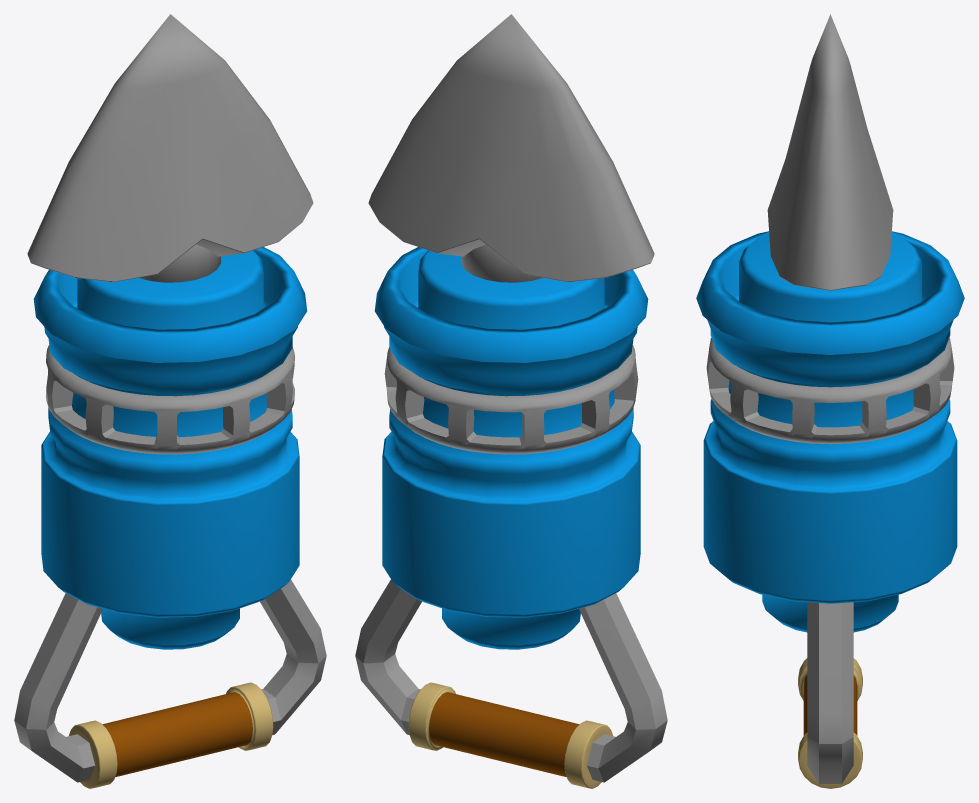
Rendered from GrappleHook_v1.fbx.
3 renders of one model, left to right at view 1: azimuth 30°, elevation 25°; view 2: azimuth 150°, elevation 25°; view 3: azimuth 270°, elevation 25°, orthographic. The views are drawn at different scales.
Visible parts, largest first — view 1: GrappleHook_v1, Hook_v1, Chain_v1; view 2: GrappleHook_v1, Hook_v1, Chain_v1; view 3: GrappleHook_v1, Hook_v1, Chain_v1.
Part boxes in pixels (x1,y1,x2,y2): GrappleHook_v1: [14, 247, 326, 788]; Hook_v1: [27, 14, 313, 282]; Chain_v1: [46, 345, 294, 454]; GrappleHook_v1: [355, 247, 667, 788]; Hook_v1: [368, 14, 654, 282]; Chain_v1: [384, 345, 638, 454]; GrappleHook_v1: [696, 231, 964, 788]; Hook_v1: [767, 14, 893, 290]; Chain_v1: [706, 338, 954, 444].
Bounding box in the file's own units: 14.7 × 35.12 × 11.65.
